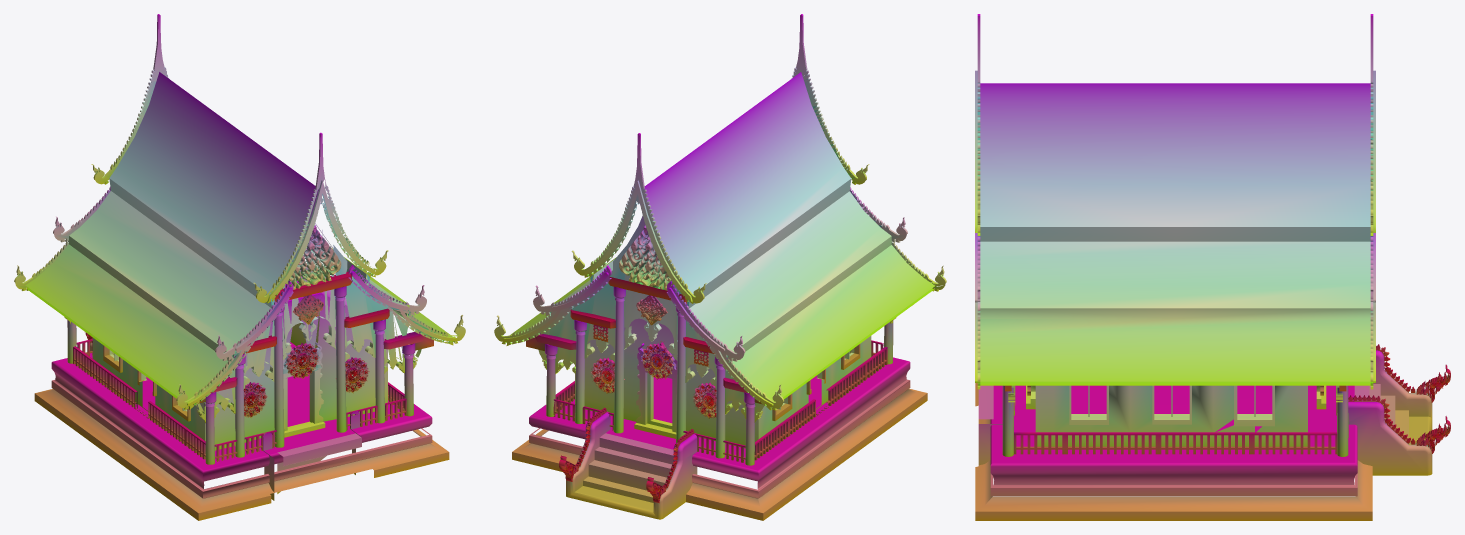
The model's file is temple.glb.
3 renders of one model, left to right at view 1: azimuth 30°, elevation 25°; view 2: azimuth 150°, elevation 25°; view 3: azimuth 270°, elevation 25°, orthographic. The views are drawn at different scales.
Visible parts, largest first — view 1: temple_roof, temple_base, temple_wall, temple_barge, temple_column, temple_screen, temple_carve, temple_rail, temple_beam, temple_frame, temple_mosaic; view 2: temple_roof, temple_base, temple_barge, temple_wall, temple_column, temple_screen, temple_carve, temple_rail, temple_frame, temple_beam, temple_mosaic; view 3: temple_roof, temple_base, temple_wall, temple_rail, temple_barge, temple_carve, temple_column, temple_mosaic.
Boxes of the visible parts, x1=… form: temple_roof: x1=25, y1=72, x2=453, y2=406; temple_base: x1=34, y1=342, x2=449, y2=520; temple_wall: x1=92, y1=265, x2=387, y2=450; temple_barge: x1=14, y1=14, x2=465, y2=409; temple_column: x1=67, y1=286, x2=415, y2=464; temple_screen: x1=64, y1=230, x2=421, y2=422; temple_carve: x1=85, y1=223, x2=369, y2=417; temple_rail: x1=73, y1=339, x2=406, y2=461; temple_beam: x1=193, y1=271, x2=433, y2=404; temple_frame: x1=103, y1=342, x2=325, y2=437; temple_mosaic: x1=68, y1=193, x2=457, y2=406; temple_roof: x1=509, y1=72, x2=935, y2=401; temple_base: x1=512, y1=352, x2=927, y2=520; temple_barge: x1=494, y1=14, x2=946, y2=410; temple_wall: x1=575, y1=318, x2=871, y2=448; temple_column: x1=545, y1=286, x2=893, y2=465; temple_screen: x1=538, y1=216, x2=896, y2=422; temple_carve: x1=560, y1=225, x2=716, y2=503; temple_rail: x1=553, y1=340, x2=887, y2=462; temple_frame: x1=634, y1=343, x2=860, y2=438; temple_beam: x1=526, y1=277, x2=767, y2=405; temple_mosaic: x1=502, y1=192, x2=936, y2=407; temple_roof: x1=980, y1=83, x2=1370, y2=385; temple_base: x1=975, y1=350, x2=1450, y2=520; temple_wall: x1=1035, y1=385, x2=1307, y2=446; temple_rail: x1=1014, y1=432, x2=1337, y2=454; temple_barge: x1=975, y1=14, x2=1375, y2=389; temple_carve: x1=1027, y1=344, x2=1447, y2=453; temple_column: x1=1002, y1=385, x2=1348, y2=456; temple_mosaic: x1=975, y1=233, x2=1375, y2=383.
Bounding box in the file's own units: 17.65 × 20.85 × 20.81.
